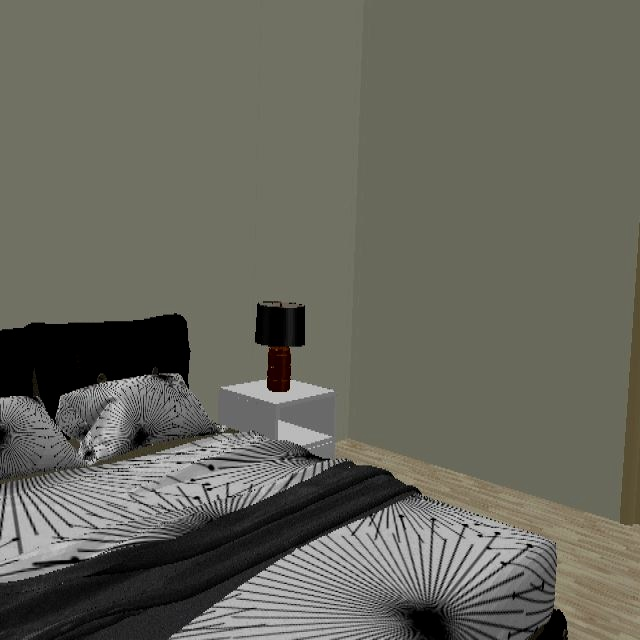bed: (0, 432, 565, 640), (0, 315, 192, 417)
lamp: (255, 301, 307, 393)
nighttable: (218, 380, 337, 461)
pillow: (55, 373, 220, 465), (0, 396, 89, 492)
